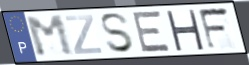E: (131, 9, 173, 54)
F: (197, 6, 232, 52)
H: (164, 9, 206, 51)
M: (23, 14, 77, 59)
S: (99, 12, 137, 55)
Z: (63, 13, 104, 56)
